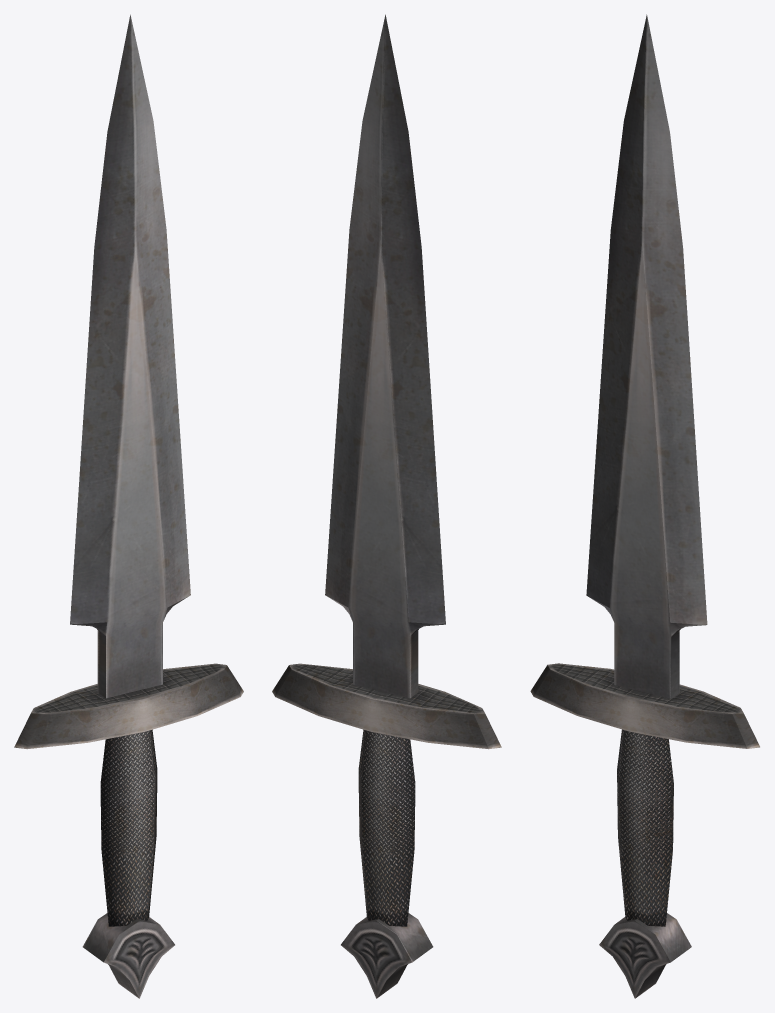
Rendered from 39_weapon.FBX.
3 renders of one model, left to right at view 1: azimuth 30°, elevation 25°; view 2: azimuth 150°, elevation 25°; view 3: azimuth 330°, elevation 25°, orthographic.
Visible parts, largest first — view 1: 39_dagger; view 2: 39_dagger; view 3: 39_dagger.
Part boxes in pixels (x1=…): 39_dagger: x1=14, y1=14, x2=243, y2=998; 39_dagger: x1=272, y1=14, x2=501, y2=998; 39_dagger: x1=530, y1=14, x2=759, y2=998.
Bounding box in the file's own units: 467 × 1895 × 117.
